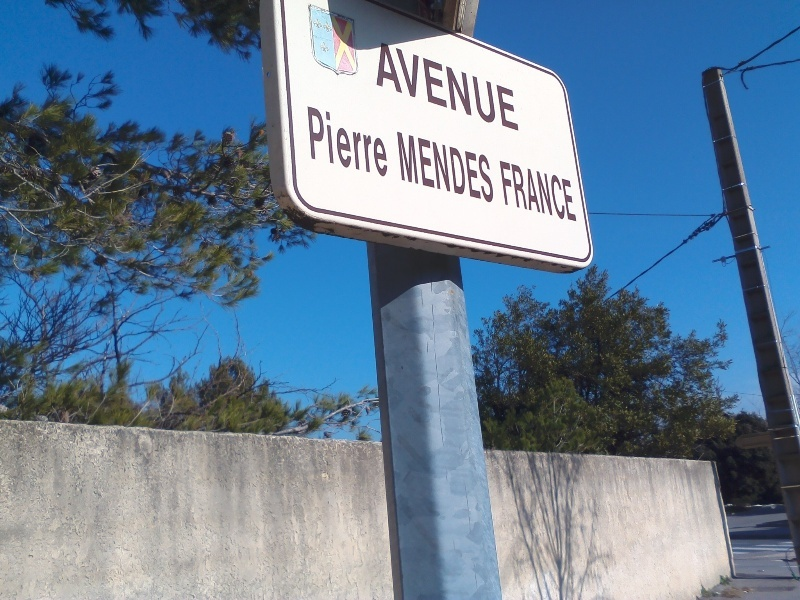text: (385, 41, 400, 133), (401, 41, 416, 133), (417, 41, 432, 133), (433, 41, 448, 133), (449, 41, 464, 133), (465, 41, 480, 133), (481, 41, 496, 133), (497, 41, 512, 133), (305, 102, 320, 178), (321, 102, 336, 178), (337, 102, 352, 178), (353, 102, 368, 178), (369, 102, 384, 178), (401, 131, 416, 204), (417, 131, 432, 204), (433, 131, 448, 204), (449, 131, 464, 204), (465, 131, 480, 204), (481, 131, 495, 204), (513, 159, 528, 224), (529, 159, 544, 224), (545, 159, 560, 224), (561, 159, 576, 224), (499, 159, 512, 224), (513, 41, 520, 133), (379, 41, 384, 133), (385, 102, 390, 178), (397, 131, 400, 204), (577, 159, 578, 224)
